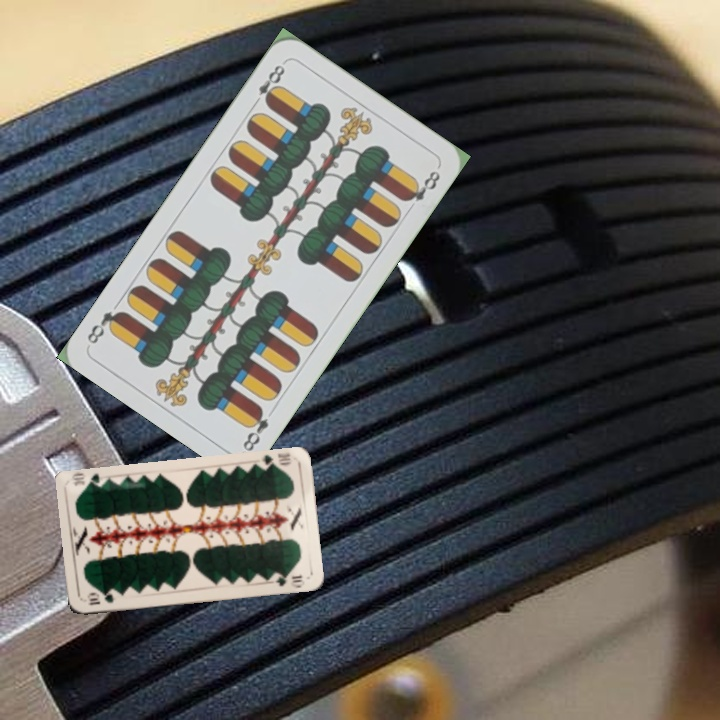E8: (248, 60, 288, 110), (238, 403, 271, 455)
G10: (257, 449, 293, 472), (83, 589, 116, 608)
